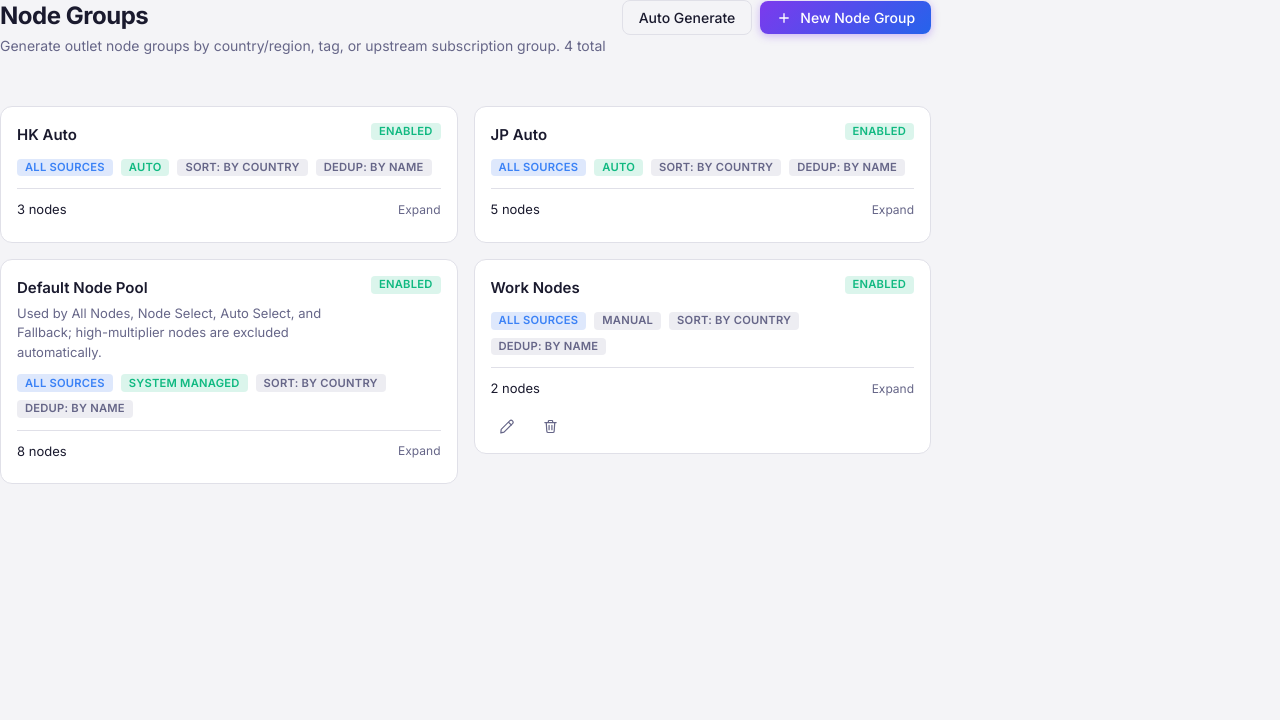
Test: Collections node previews › keeps the edit dialog and original values available when atomic save fails
Click the button named "Edit". click: [506, 427]
box: [490,411,522,443]
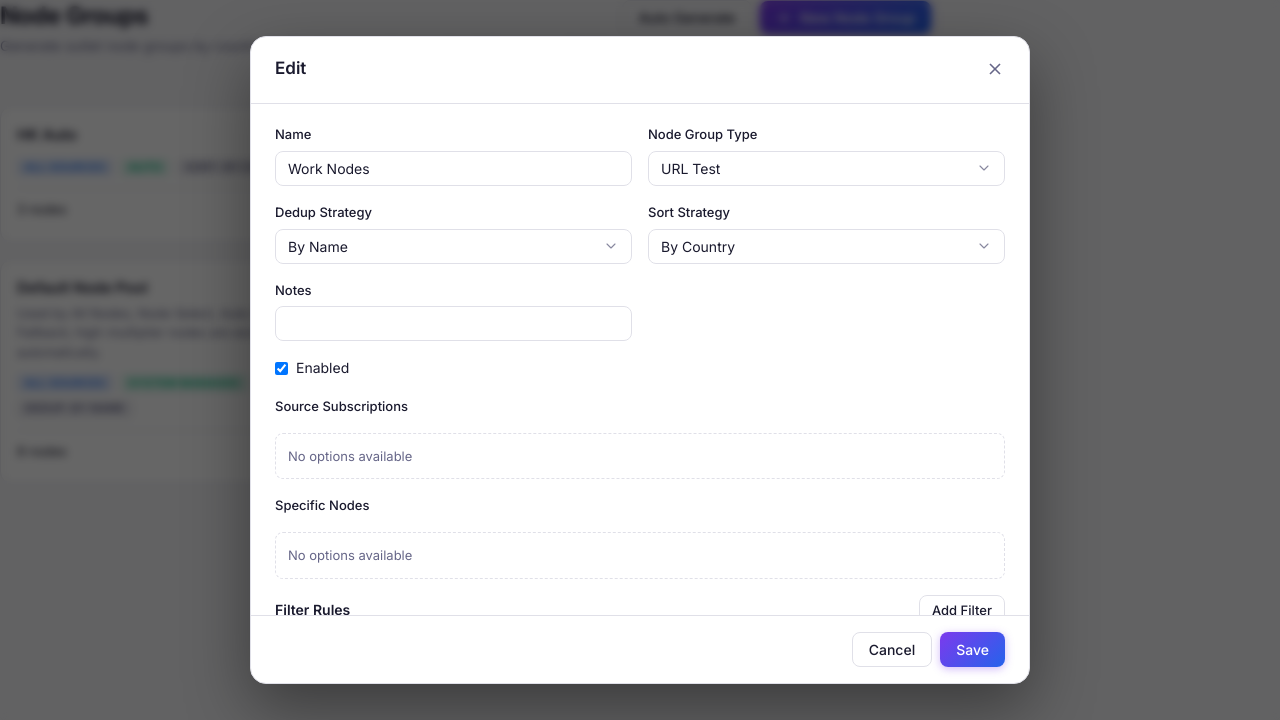
Replace the text in the field labelled "Name" with "Changed Work Nodes". click: [454, 168]
box: [275,151,632,186]
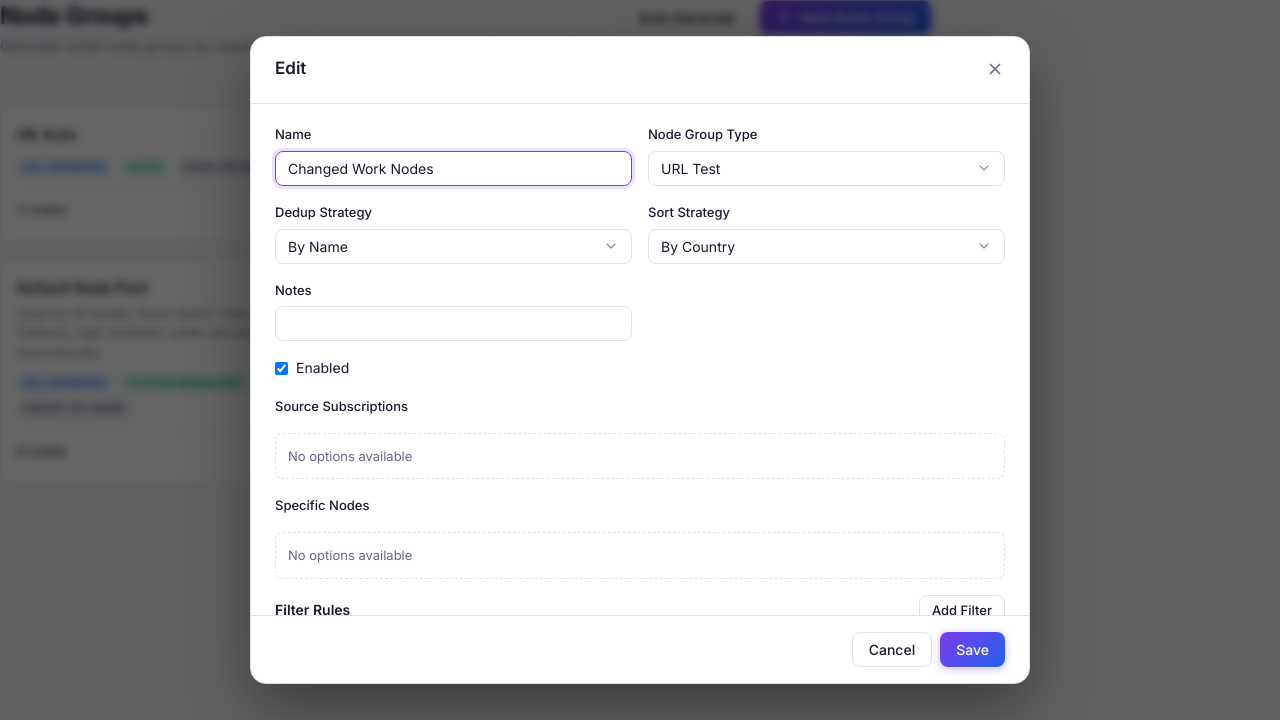
Click the button "Save". click: [973, 650]
box: [940,632,1005,667]
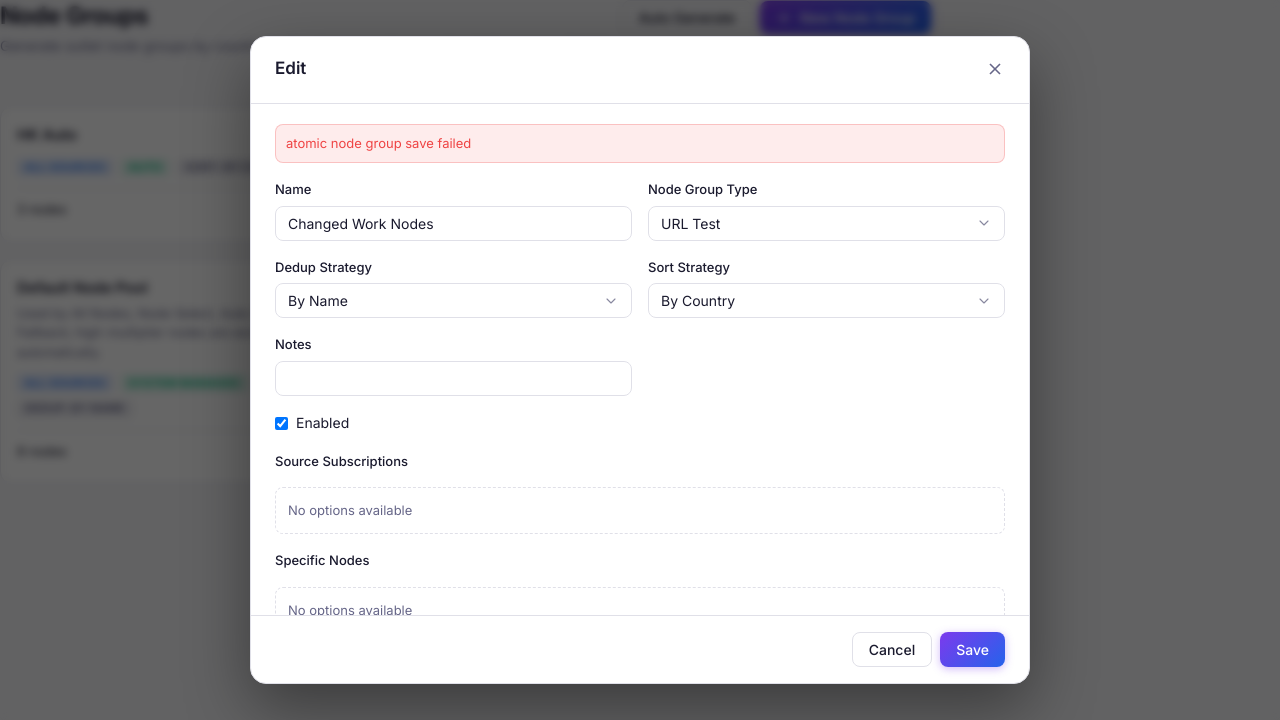
expect the dialog is shown: met, box [250,36,1030,684]
expect the message reads "atomic node group save failed": met, box [286,135,471,151]
